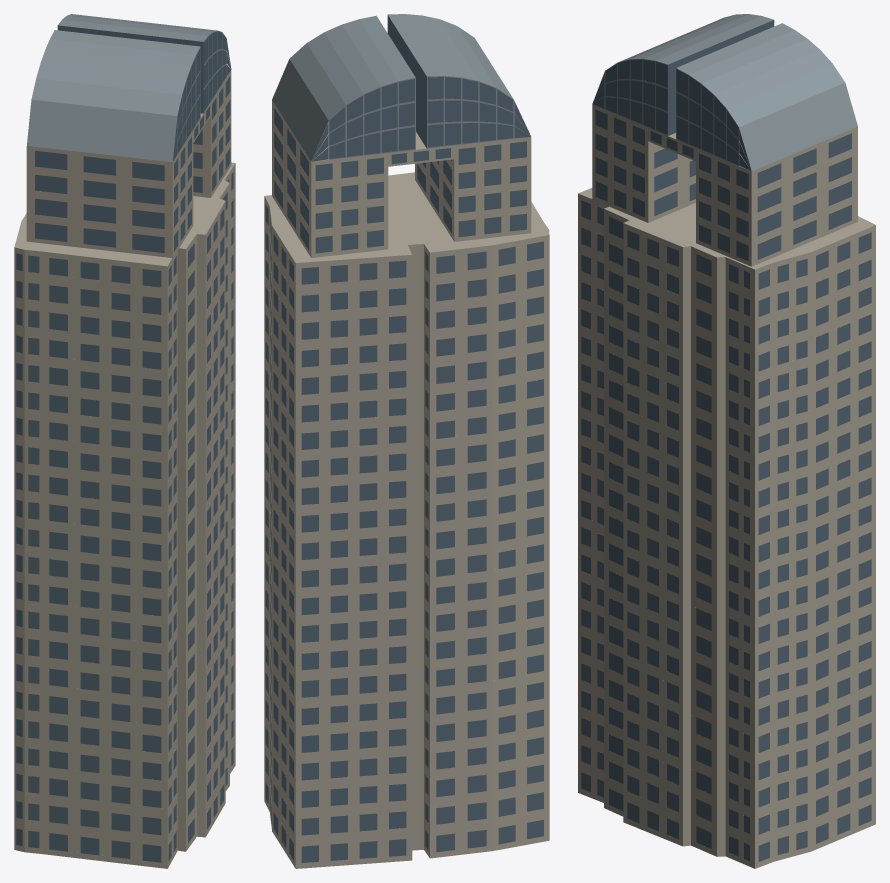
The model's file is jpmorgan-chase-tower-dallas-far.glb.
The picture shows the model from 3 angles, left to right: view 1: azimuth 30°, elevation 25°; view 2: azimuth 150°, elevation 25°; view 3: azimuth 270°, elevation 25°; orthographic projection.
Parts seen in each view (by area): view 1: jpmorgan-chase-tower-dallas-0-stone, jpmorgan-chase-tower-dallas-0-glass, jpmorgan-chase-tower-dallas-0-roof; view 2: jpmorgan-chase-tower-dallas-0-stone, jpmorgan-chase-tower-dallas-0-glass, jpmorgan-chase-tower-dallas-0-roof; view 3: jpmorgan-chase-tower-dallas-0-stone, jpmorgan-chase-tower-dallas-0-glass, jpmorgan-chase-tower-dallas-0-roof.
Boxes of the visible parts, x1=… form: jpmorgan-chase-tower-dallas-0-stone: x1=14, y1=70, x2=235, y2=868; jpmorgan-chase-tower-dallas-0-glass: x1=16, y1=25, x2=233, y2=862; jpmorgan-chase-tower-dallas-0-roof: x1=27, y1=14, x2=226, y2=162; jpmorgan-chase-tower-dallas-0-stone: x1=264, y1=98, x2=549, y2=868; jpmorgan-chase-tower-dallas-0-glass: x1=265, y1=15, x2=543, y2=862; jpmorgan-chase-tower-dallas-0-roof: x1=272, y1=14, x2=531, y2=161; jpmorgan-chase-tower-dallas-0-stone: x1=578, y1=104, x2=875, y2=868; jpmorgan-chase-tower-dallas-0-glass: x1=581, y1=20, x2=871, y2=861; jpmorgan-chase-tower-dallas-0-roof: x1=592, y1=14, x2=857, y2=171.
Size of the model in its own units: 77.15 by 225 by 79.28.
